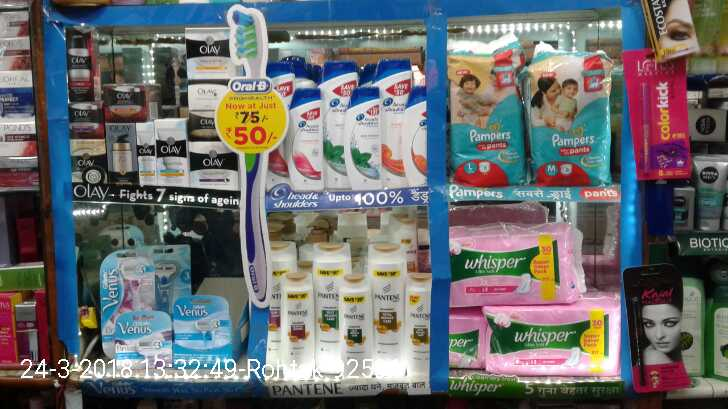venus: (172, 295, 234, 369), (115, 311, 171, 376), (105, 249, 151, 311), (157, 247, 189, 297)
